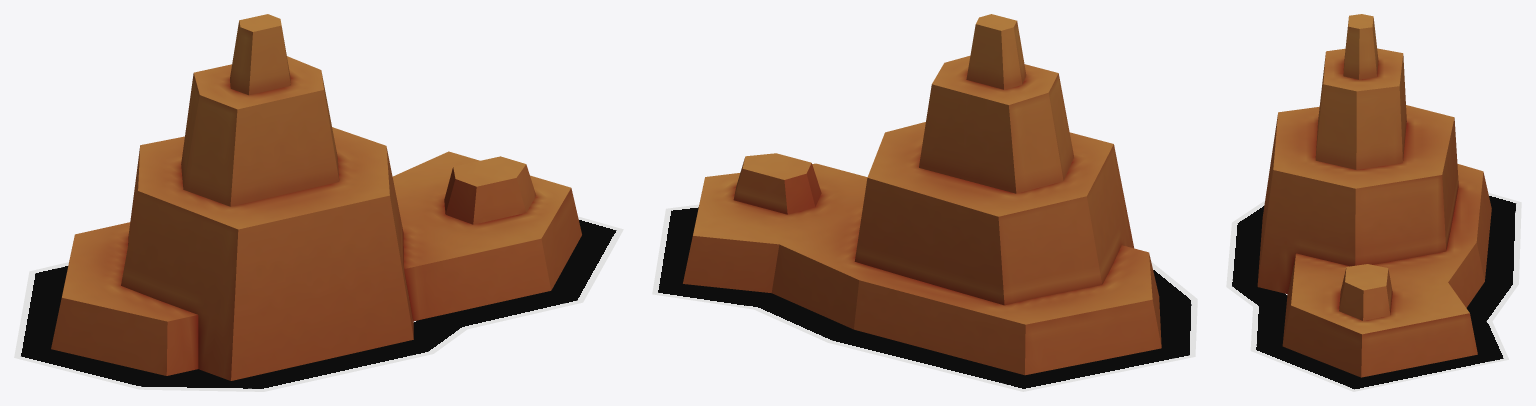
File: 2x1_rock.FBX
3 renders of one model, left to right at view 1: azimuth 30°, elevation 25°; view 2: azimuth 150°, elevation 25°; view 3: azimuth 270°, elevation 25°, orthographic. The views are drawn at different scales.
Visible parts, largest first — view 1: 2x1_rock, 2x1_rock_soft_shadow; view 2: 2x1_rock, 2x1_rock_soft_shadow; view 3: 2x1_rock, 2x1_rock_soft_shadow.
Boxes of the visible parts, x1=… form: 2x1_rock: x1=51, y1=14, x2=581, y2=380; 2x1_rock_soft_shadow: x1=14, y1=216, x2=623, y2=391; 2x1_rock: x1=683, y1=14, x2=1161, y2=375; 2x1_rock_soft_shadow: x1=652, y1=204, x2=1197, y2=391; 2x1_rock: x1=1257, y1=14, x2=1491, y2=377; 2x1_rock_soft_shadow: x1=1226, y1=192, x2=1521, y2=391.
Size of the model in its own units: 2253 by 1073 by 1231.
